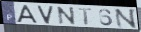6: (99, 9, 114, 27)
A: (16, 4, 39, 24)
N: (113, 9, 138, 29), (56, 6, 77, 26)
T: (78, 8, 93, 26)
V: (36, 5, 55, 25)
